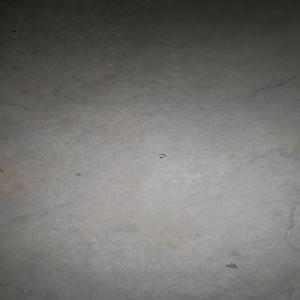Nut: (157, 154, 166, 160)
